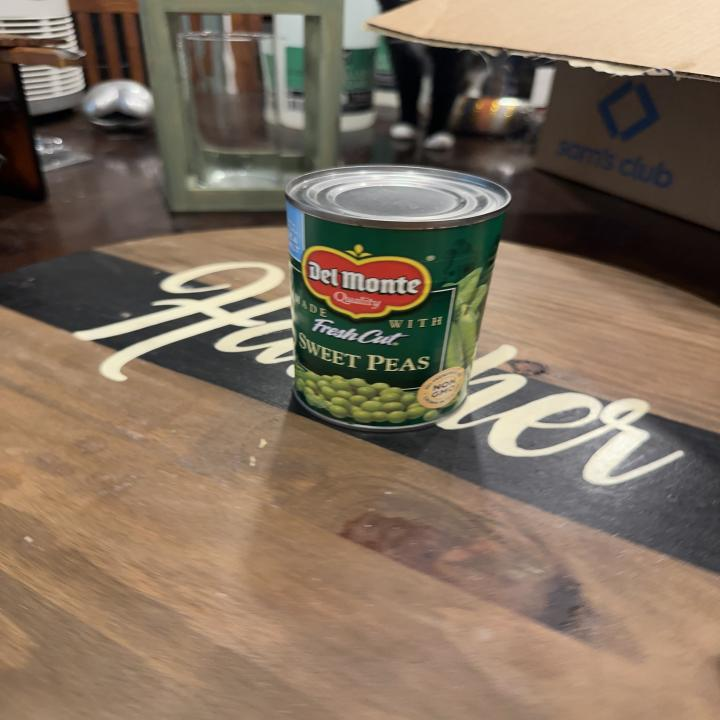Canned-Peas: (281, 164, 515, 430)
